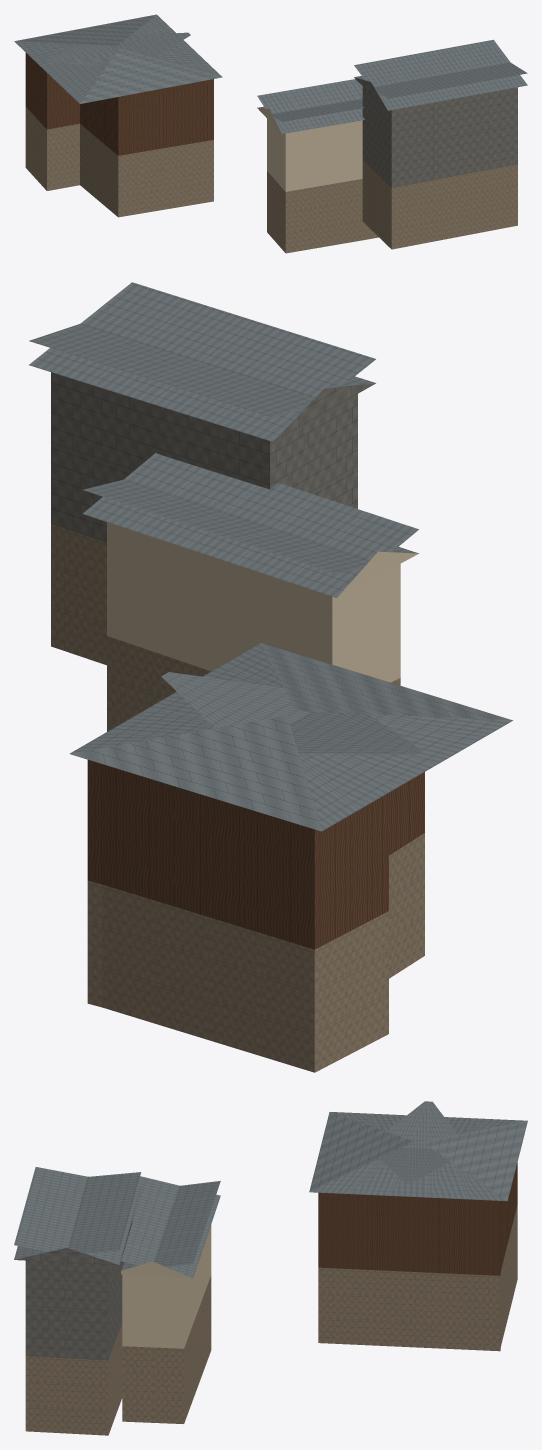
The model's file is bld_c12_30_389.gltf.
The picture shows the model from 3 angles, top to bottom: view 1: azimuth 30°, elevation 25°; view 2: azimuth 150°, elevation 25°; view 3: azimuth 270°, elevation 25°; orthographic projection. The views are drawn at different scales.
Parts seen in each view (by area): view 1: bld_c12_30_389; view 2: bld_c12_30_389; view 3: bld_c12_30_389.
Part boxes in pixels (x1,y1,x2,y2): bld_c12_30_389: (14,14,527,253); bld_c12_30_389: (29,282,512,1072); bld_c12_30_389: (14,1101,527,1435).
Size of the model in its own units: 28.46 by 14.4 by 31.5.
Materials: 7 (7 with a texture image).
